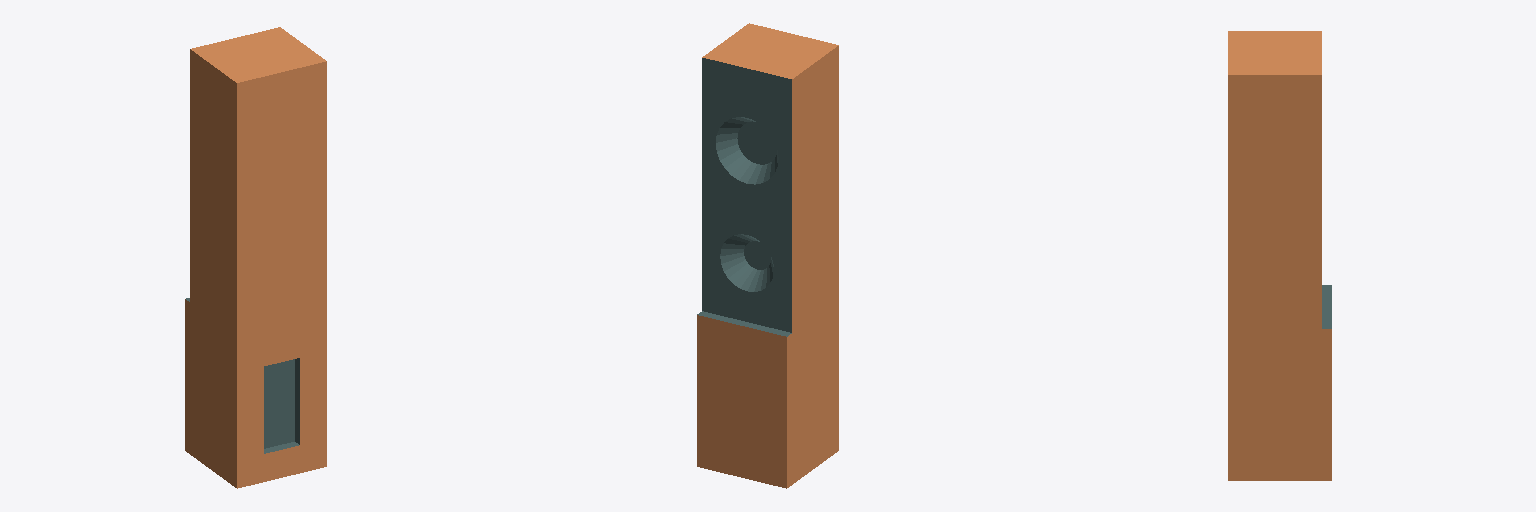
File: speaker.obj
3 views of the same model, side by side, from view 1: azimuth 30°, elevation 25°; view 2: azimuth 150°, elevation 25°; view 3: azimuth 270°, elevation 25° (orthographic).
Parts seen in each view (by area): view 1: speaker; view 2: speaker; view 3: speaker.
Part boxes in pixels (x1,y1,x2,y2): speaker: (185, 27, 326, 488); speaker: (697, 23, 838, 488); speaker: (1228, 31, 1331, 480).
Size of the model in its own units: 0.148 by 0.6364 by 0.148.